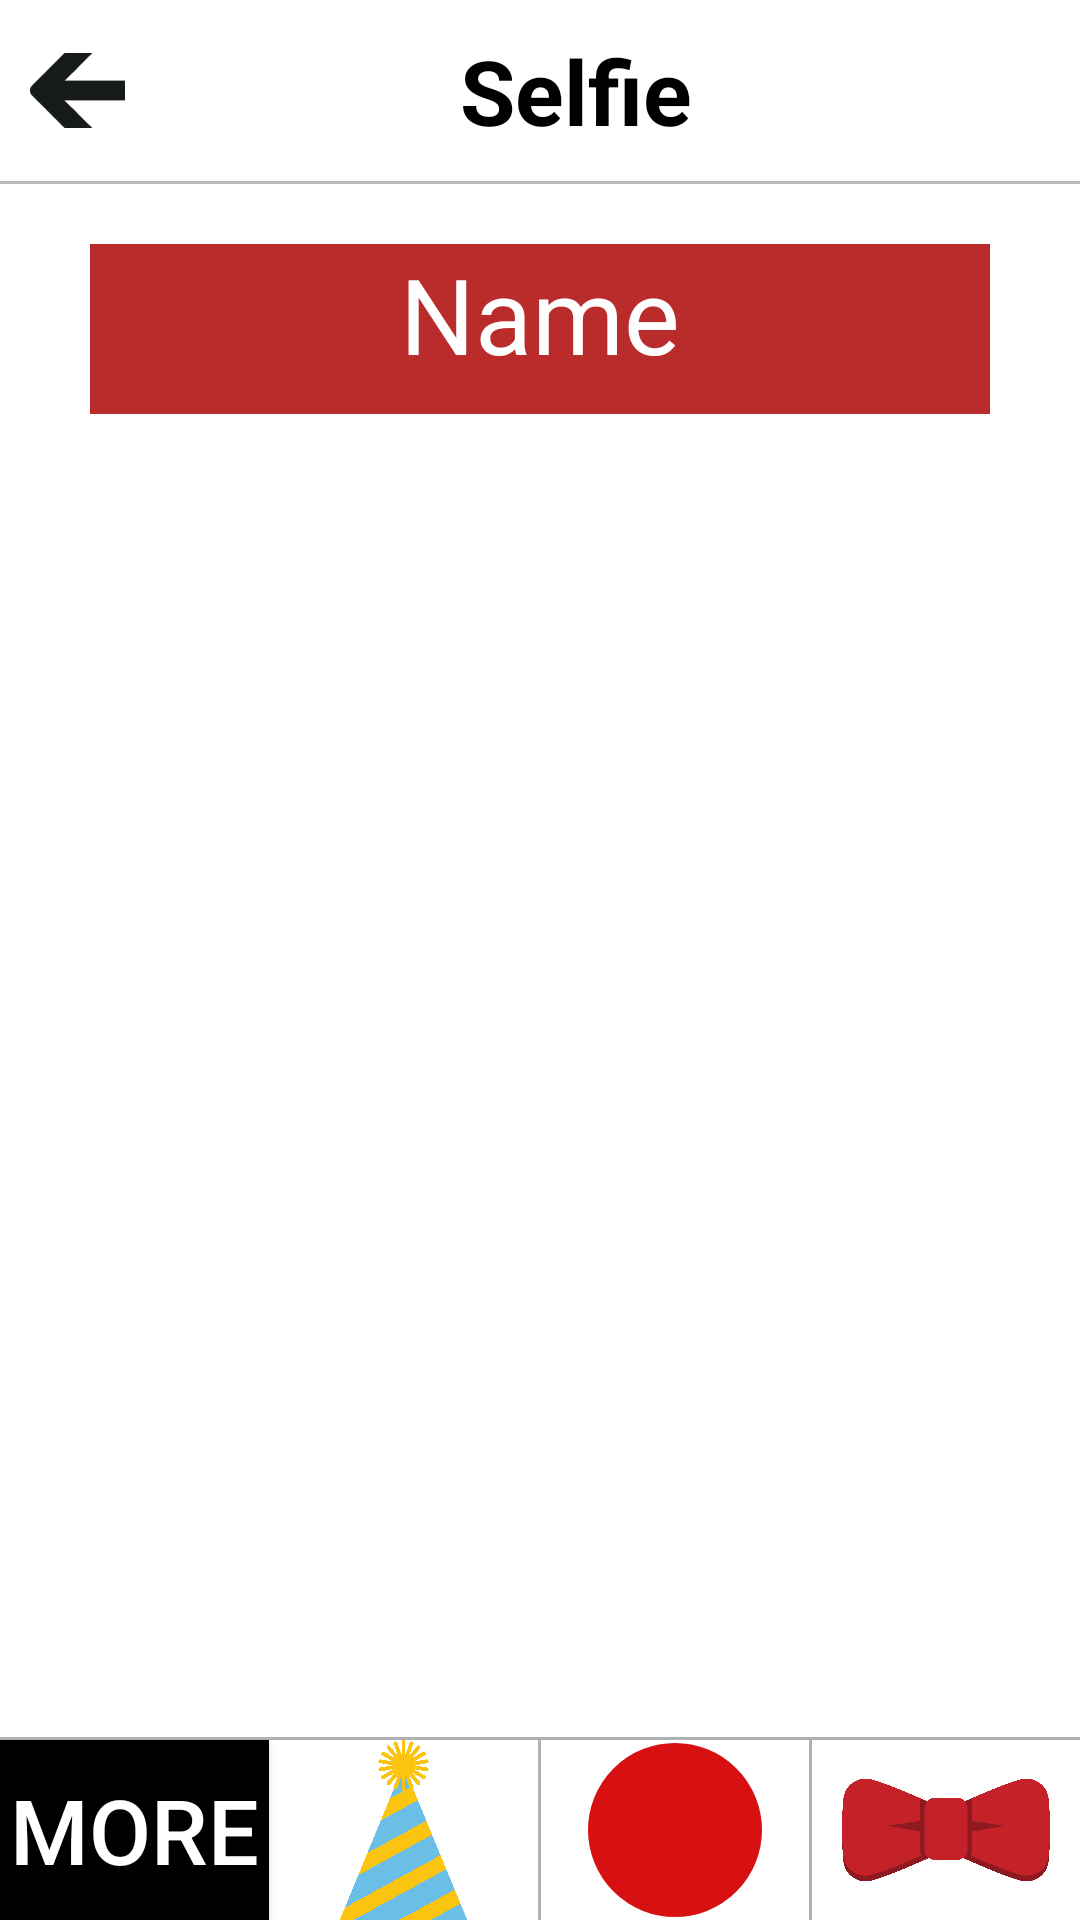

Icon bounding boxes for this 1080*1920 phone screenshot, format (x1, y1, x2, y2):
fionka: (842, 1779, 1050, 1881)
